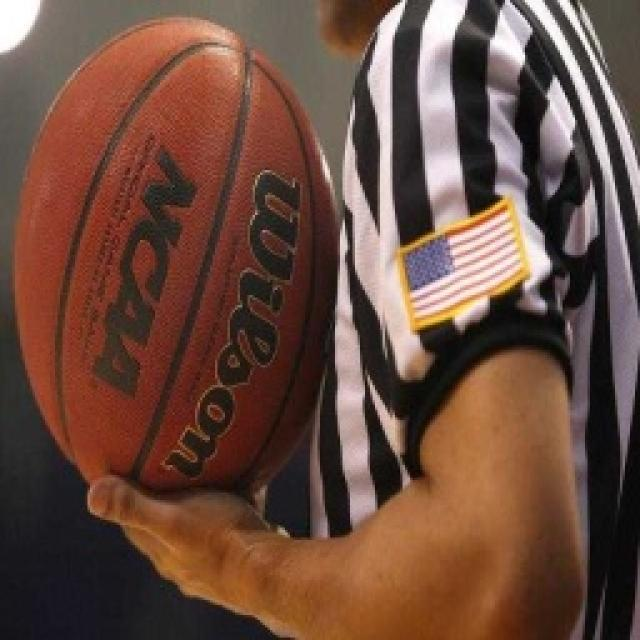rim: (6, 8, 350, 528)
